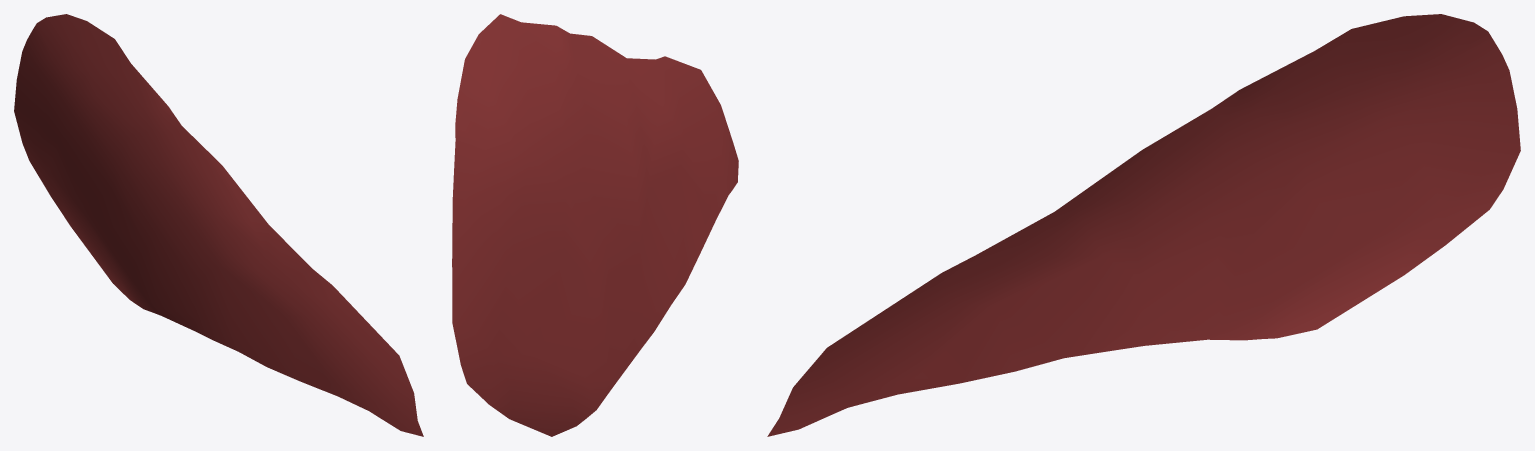
File: serratus-anterior-muscle-e5r.glb
The picture shows the model from 3 angles, left to right: view 1: azimuth 30°, elevation 25°; view 2: azimuth 150°, elevation 25°; view 3: azimuth 270°, elevation 25°; orthographic projection. The views are drawn at different scales.
Visible parts, largest first — view 1: Serratus anterior muscle.e5r; view 2: Serratus anterior muscle.e5r; view 3: Serratus anterior muscle.e5r.
Part boxes in pixels (x1,y1,x2,y2): Serratus anterior muscle.e5r: [14, 14, 423, 436]; Serratus anterior muscle.e5r: [452, 14, 738, 436]; Serratus anterior muscle.e5r: [767, 14, 1520, 436].
Size of the model in its own units: 0.00956 by 0.0189 by 0.0363.
